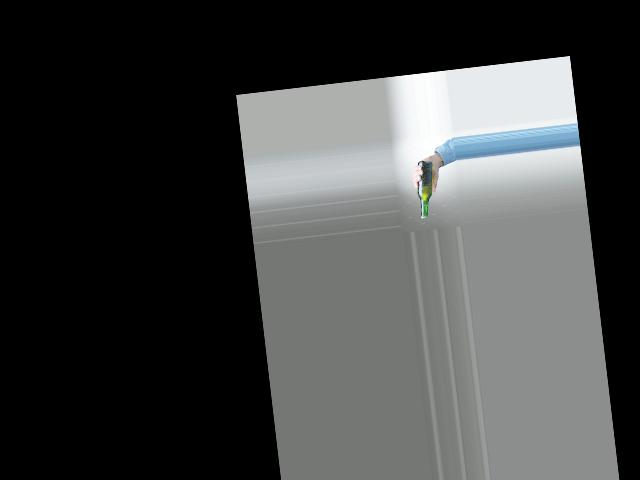beer: (414, 159, 439, 219)
